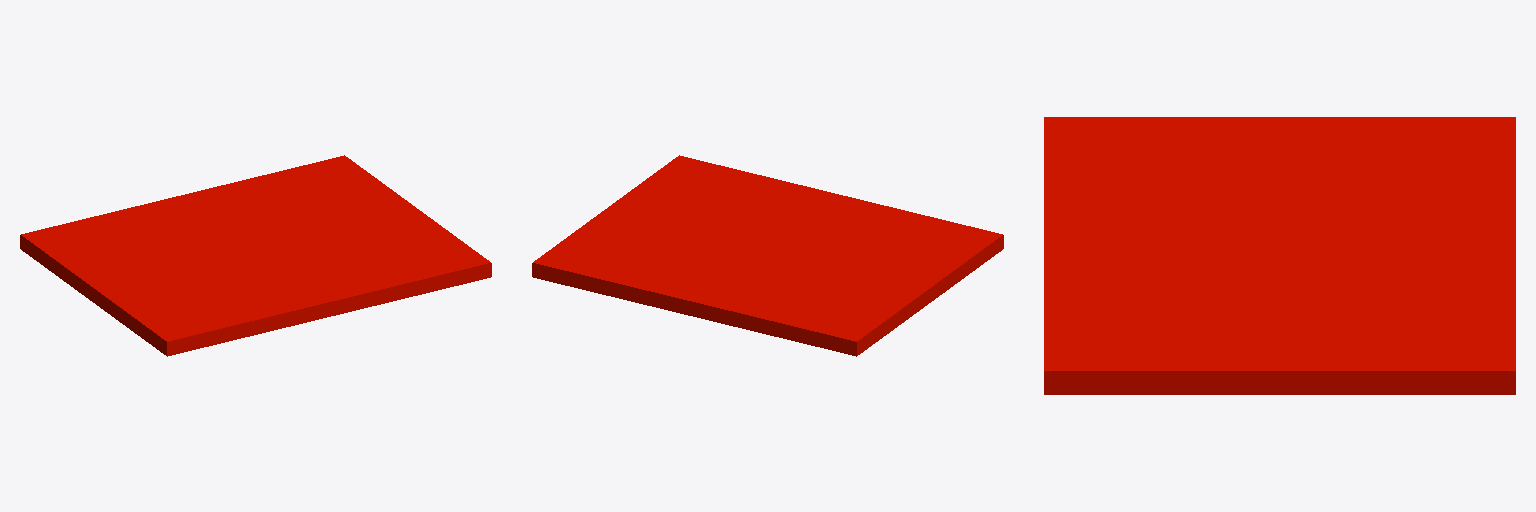
URDF robot description (book):
<?xml version="1.0"?>
<robot name="book">
  <link name="base_link">
    <inertial>
      <origin xyz="0 0 0" rpy="0 0 0" />
      <mass value="0.50" />
      <inertia ixx="0.0013541" ixy="0" ixz="0" iyy="0.0022083" iyz="0"
          izz="0.00355415" />
    </inertial>
    <visual>
      <origin xyz="0 0 0" rpy="0 0 0" />git
      <geometry>
        <box size="0.23 0.18 0.01" />
      </geometry>
      <material name="red">
        <color rgba="0.9 0.1 0.0 1" />
      </material>
    </visual>
    <!--
      This places contact spheres on the corners of the visual box and a
      *slightly* smaller inset contact box (centered on the visual origin). This
      accounts for issues in the contact computation providing stable table
      contact *and* supports grasping.

      When the box is in stable contact with the ground plane, the corner
      spheres will provide fixed contact points (simulating distributed contact
      points around the face).  However, for arbitrary grip configuration, the
      slightly inset box will provide contact with a *slight* offset (in this
      case a deviation of 0.0005 m from the visual surface).
     -->
    <collision>
      <geometry>
        <box size="0.229 0.179 0.009" />
      </geometry>
    </collision>

    <collision>
      <origin xyz="-0.1145 -0.0895 -0.0045" rpy="0 0 0"/>
      <geometry>
        <sphere radius="1e-7"/>
      </geometry>
    </collision>
    <collision>
      <origin xyz="-0.1145 -0.0895 0.0045" rpy="0 0 0"/>
      <geometry>
        <sphere radius="1e-7"/>
      </geometry>
    </collision>
    <collision>
      <origin xyz="-0.1145 0.0895 -0.0045" rpy="0 0 0"/>
      <geometry>
        <sphere radius="1e-7"/>
      </geometry>
    </collision>
    <collision>
      <origin xyz="-0.1145 0.0895 0.0045" rpy="0 0 0"/>
      <geometry>
        <sphere radius="1e-7"/>
      </geometry>
    </collision>

    <collision>
      <origin xyz="0.1145 -0.0895 -0.0045" rpy="0 0 0"/>
      <geometry>
        <sphere radius="1e-7"/>
      </geometry>
    </collision>
    <collision>
      <origin xyz="0.1145 -0.0895 0.0045" rpy="0 0 0"/>
      <geometry>
        <sphere radius="1e-7"/>
      </geometry>
    </collision>
    <collision>
      <origin xyz="0.1145 0.0895 -0.0045" rpy="0 0 0"/>
      <geometry>
        <sphere radius="1e-7"/>
      </geometry>
    </collision>
    <collision>
      <origin xyz="0.1145 0.0895 0.0045" rpy="0 0 0"/>
      <geometry>
        <sphere radius="1e-7"/>
      </geometry>
    </collision>
   </link>
</robot>

--- Render facts (derived) ---
3 views of the same robot in one strip: view 1: azimuth 30°, elevation 25°; view 2: azimuth 150°, elevation 25°; view 3: azimuth 270°, elevation 25° (orthographic).
Robot: book — 1 links, 0 joints (none); root link base_link; default pose: every joint at zero.
Visible links, largest first — view 1: base_link; view 2: base_link; view 3: base_link.
Boxes of the visible links, left/top/right/bottom form: base_link: left=20, top=155, right=491, bottom=356; base_link: left=532, top=155, right=1003, bottom=356; base_link: left=1044, top=117, right=1515, bottom=394.
Bounding box of the posed robot: 0.23 × 0.18 × 0.01 m (x, y, z).
Geometry: primitives only (box / cylinder / sphere), no mesh files.